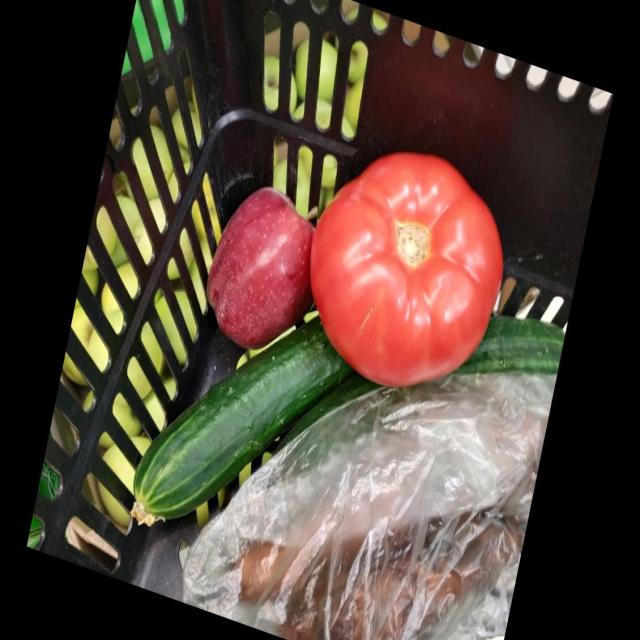Apple: (207, 186, 313, 347)
Cucumber: (134, 316, 352, 515), (279, 372, 380, 449), (456, 314, 566, 375)
Tomatoes: (308, 155, 500, 383)
